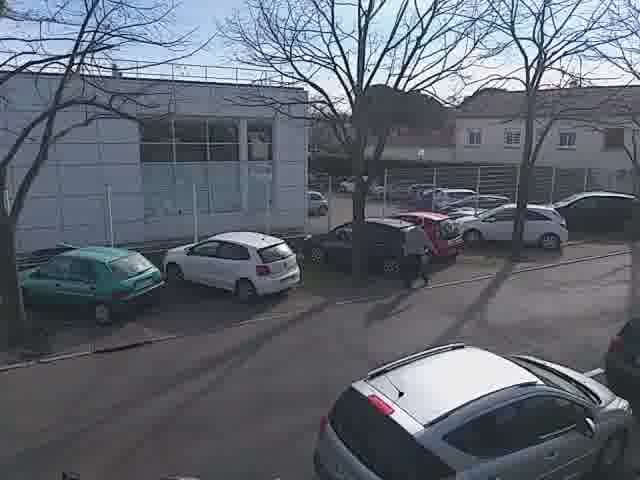persona: (400, 204, 438, 289)
